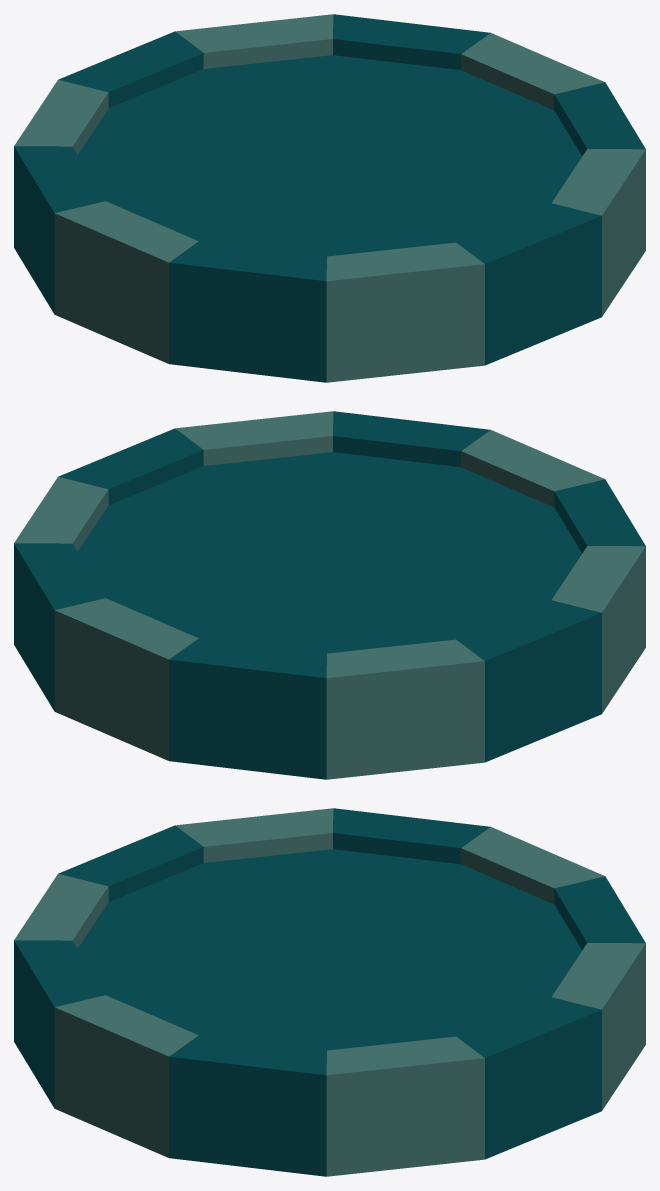
3 renders of one model, top to bottom at view 1: azimuth 30°, elevation 25°; view 2: azimuth 150°, elevation 25°; view 3: azimuth 270°, elevation 25°, orthographic.
Visible parts, largest first — view 1: Cylinder.006; view 2: Cylinder.006; view 3: Cylinder.006.
Boxes of the visible parts, x1,y1,x2,y2 form: Cylinder.006: (14,14,645,382); Cylinder.006: (14,411,645,779); Cylinder.006: (14,808,645,1176).
Bounding box in the file's own units: 150 × 26.64 × 150.
